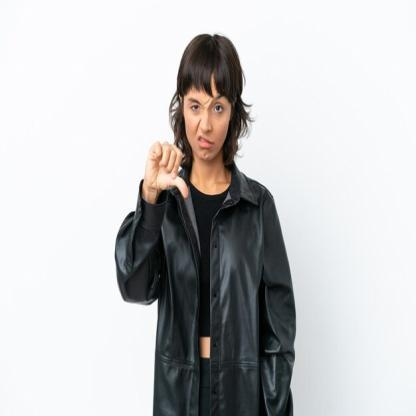thumb_down: (142, 136, 191, 203)
